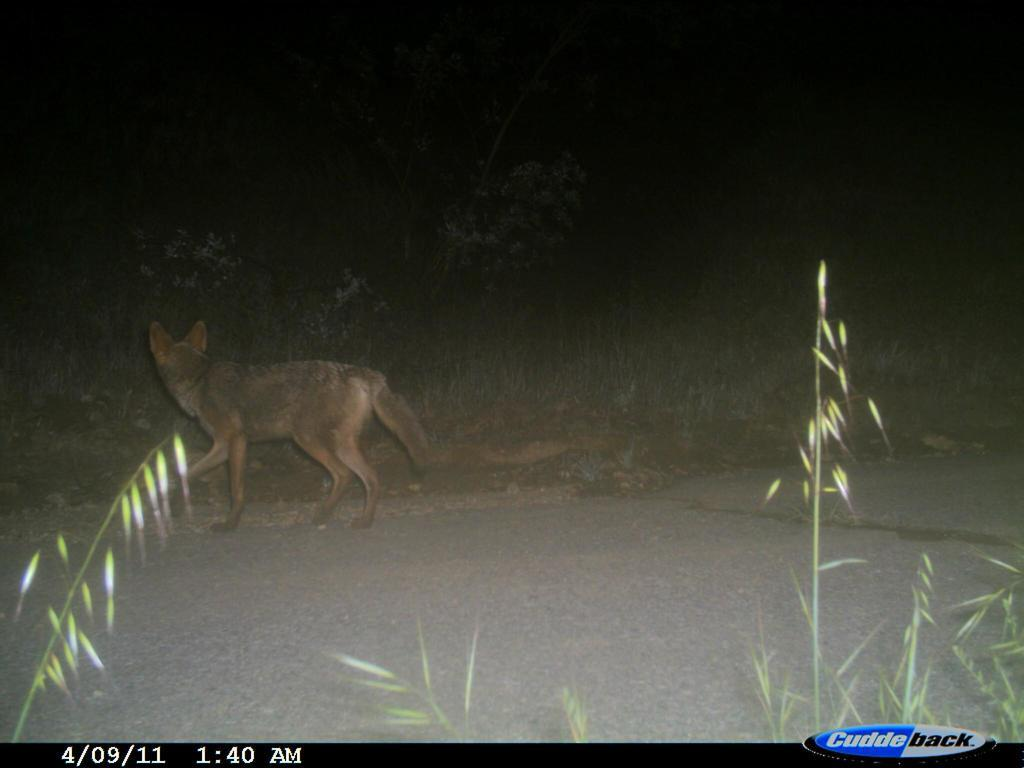coyote: (143, 317, 436, 541)
